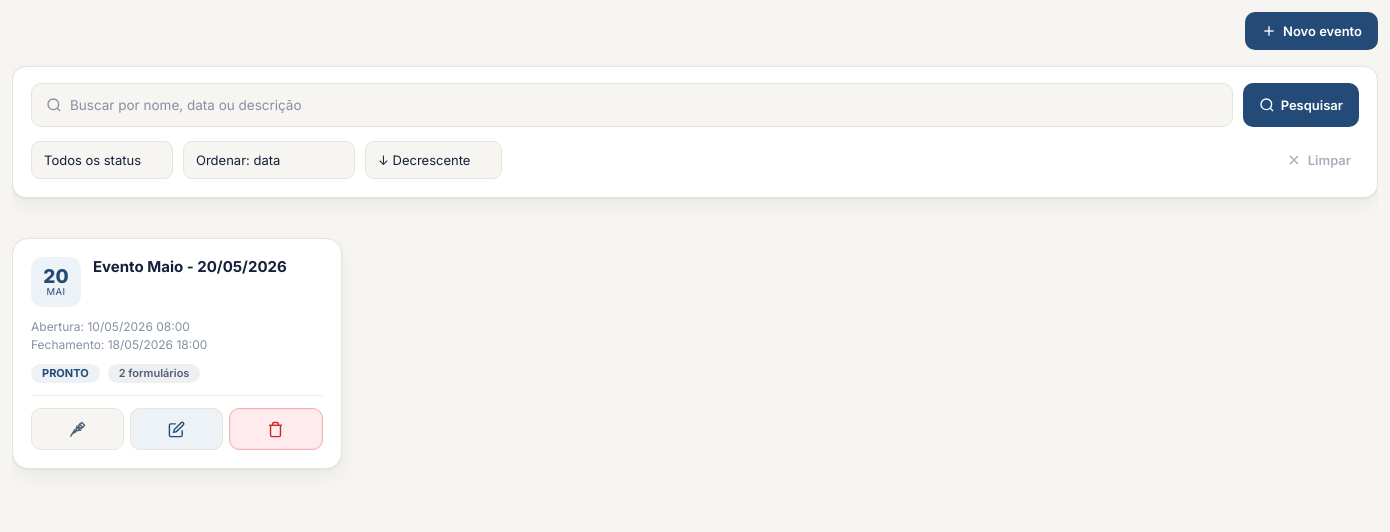
Test: EventsScreen › diferencia visualmente presenca e escala da Organ
Click the text "Evento Maio - 20/05/2026".
click(190, 266)  # box [93, 257, 287, 276]
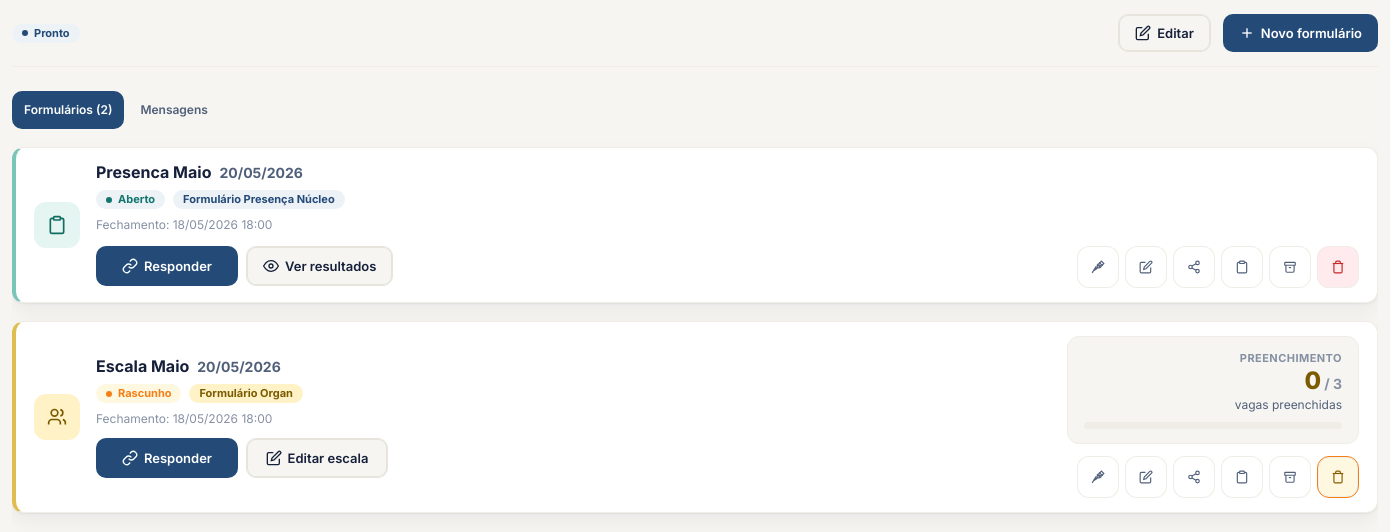
Check: the picture named "Formulário de presença" is shown, box [34, 202, 80, 248]
Check: the picture named "Escala da Organ" is shown, box [34, 394, 80, 440]
